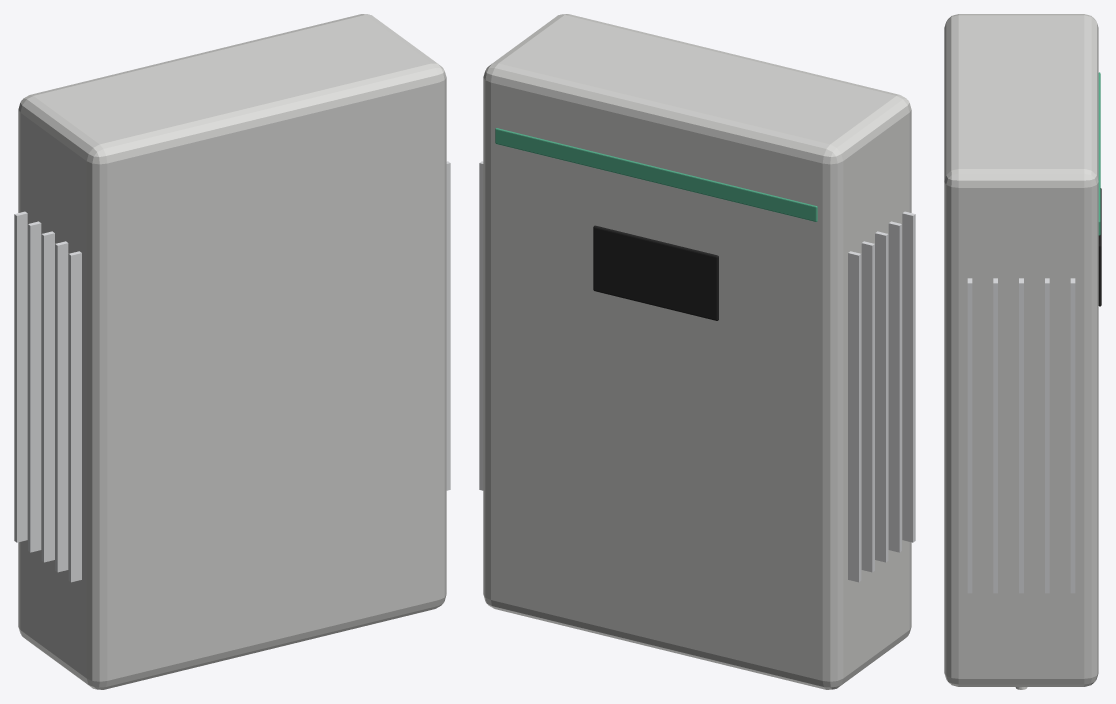
The model's file is luxpower-sna-5000-wpv.glb.
3 views of the same model, side by side, from view 1: azimuth 30°, elevation 25°; view 2: azimuth 150°, elevation 25°; view 3: azimuth 270°, elevation 25° (orthographic). The views are drawn at different scales.
Parts seen in each view (by area): view 1: body, fin--1-2, fin--1-3, fin--1-0, fin--1-1, fin--1-4, fin-1-0; view 2: body, display, stripe, fin--1-1, fin--1-2, fin--1-3, fin--1-4, fin--1-0, fin-1-4; view 3: body, fin-1-0, fin-1-4, fin-1-1, fin-1-2, fin-1-3, stripe, display.
Boxes of the visible parts, x1,y1,x2,y2 form: body: (18, 14, 446, 689); fin--1-2: (41, 231, 54, 562); fin--1-3: (28, 221, 41, 552); fin--1-0: (68, 251, 81, 582); fin--1-1: (55, 241, 68, 572); fin--1-4: (14, 211, 27, 542); fin-1-0: (446, 161, 450, 490); body: (483, 14, 911, 689); display: (593, 225, 718, 320); stripe: (495, 128, 817, 221); fin--1-1: (888, 221, 901, 552); fin--1-2: (875, 231, 888, 562); fin--1-3: (861, 241, 874, 572); fin--1-4: (848, 251, 861, 582); fin--1-0: (902, 211, 915, 542); fin-1-4: (479, 161, 483, 490); body: (944, 14, 1098, 686); fin-1-0: (967, 278, 972, 593); fin-1-4: (1070, 278, 1075, 593); fin-1-1: (993, 278, 997, 593); fin-1-2: (1019, 278, 1023, 593); fin-1-3: (1045, 278, 1049, 593); stripe: (1098, 72, 1100, 235); display: (1098, 188, 1101, 306).
Size of the model in its own units: 0.35 by 0.498 by 0.1325.
